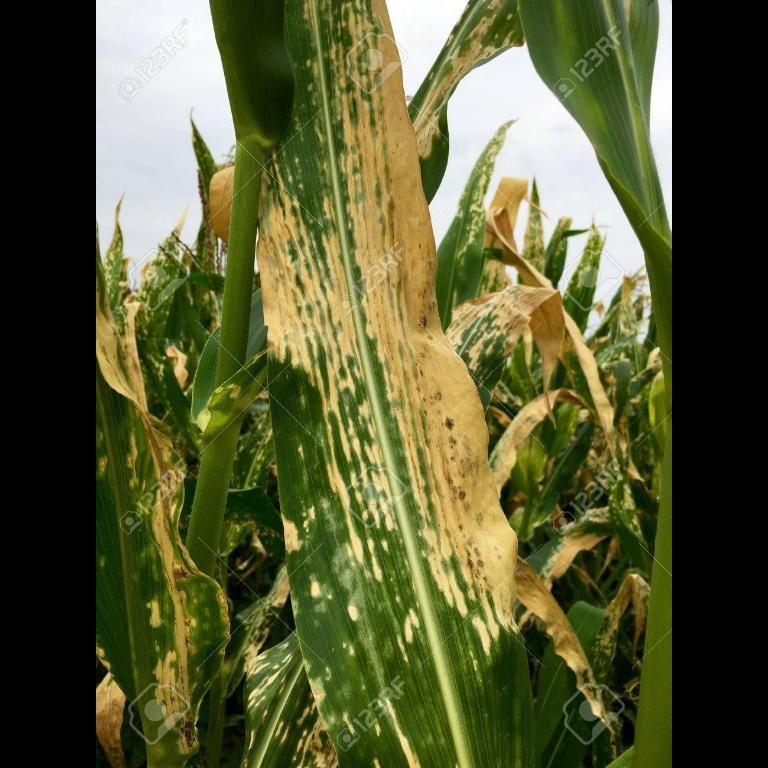blight: (297, 94, 427, 584)
